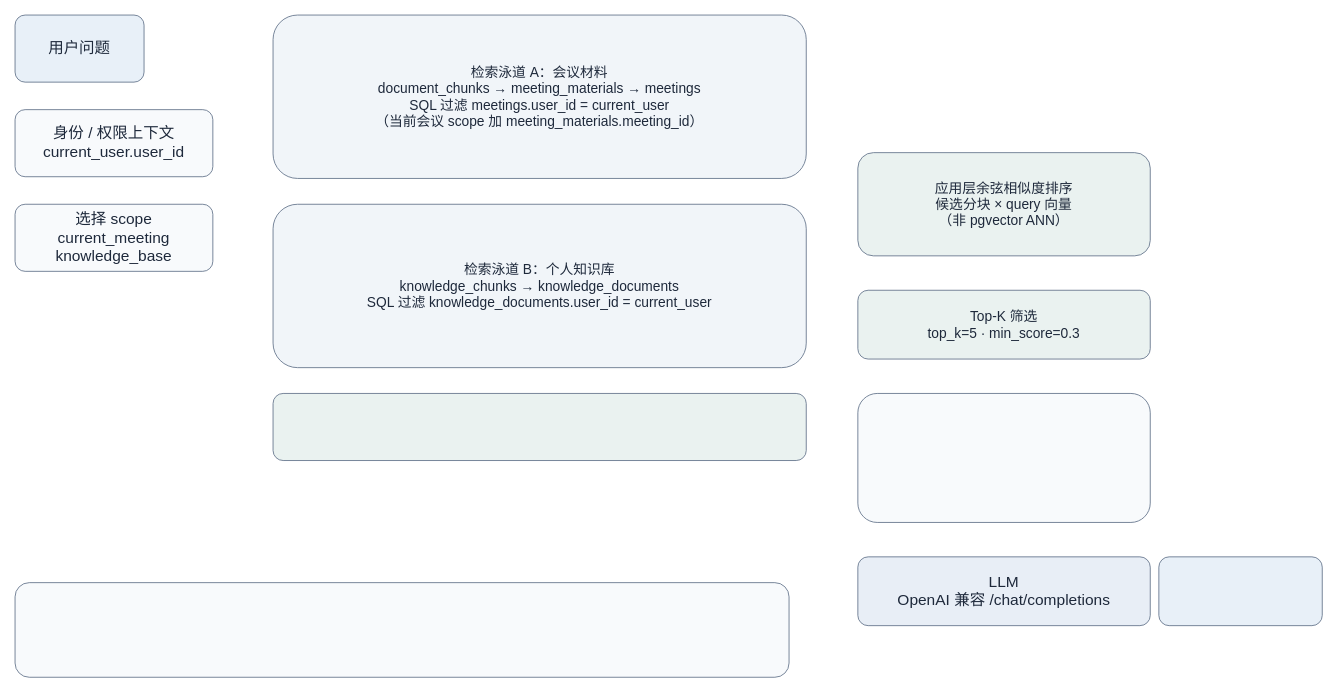
This 1337x692 diagram has some shape labels left out. The centre of each missing label's shape, as x and y in pixels:
answer + sources: point (1240, 591)
Prompt 组装 检索片段（泳道 A/B） 最近会议记录（20 条 · ≤8000 字） 用户记忆（memory_context_for, "chat"）: point (1003, 457)
query embedding（候选集生成后） Embedding 1024 维: point (539, 427)
证据不足分支 无片段且无会议记录 → 返回“证据不足”，不编造答案: point (401, 629)
